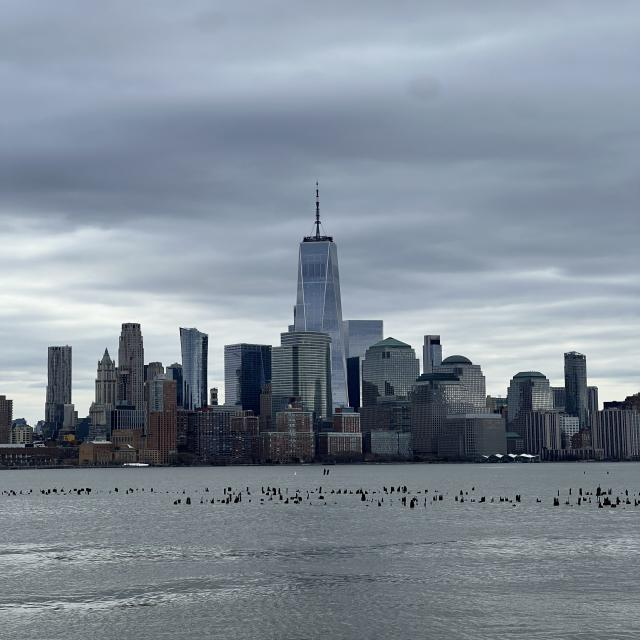WTC: (294, 179, 344, 332)
